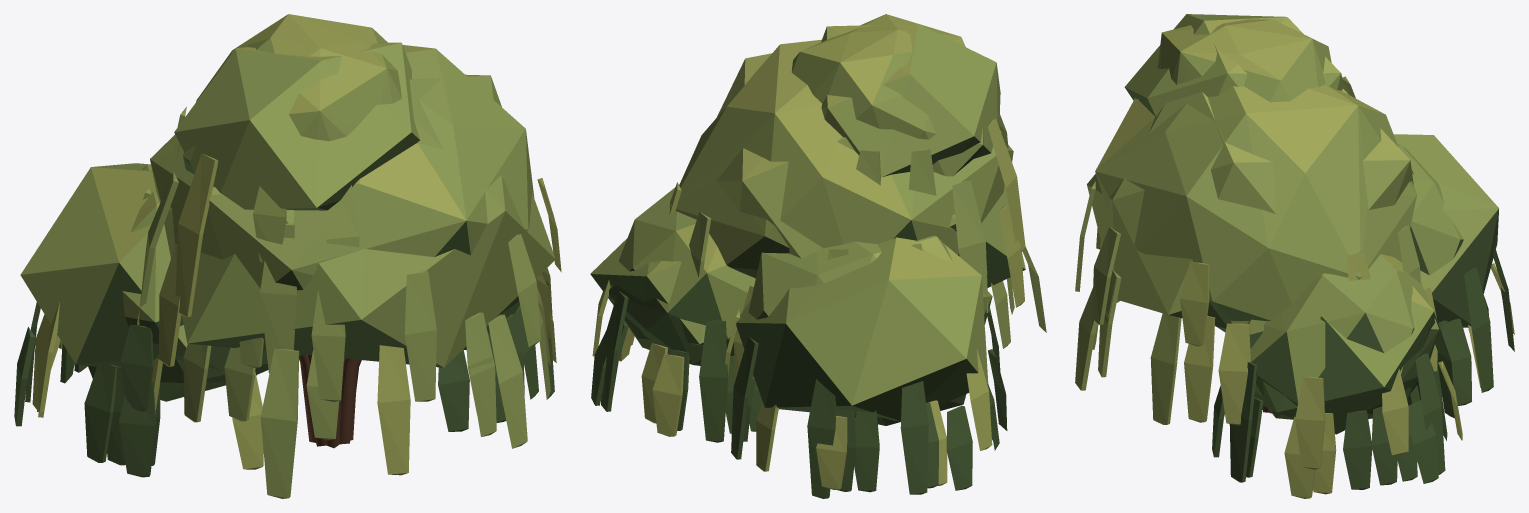
Rendered from foliage_willow_shrub_a.glb.
3 views of the same model, side by side, from view 1: azimuth 30°, elevation 25°; view 2: azimuth 150°, elevation 25°; view 3: azimuth 270°, elevation 25° (orthographic). The views are drawn at different scales.
Visible parts, largest first — view 1: foliage_willow_shrub_a_LOD0_willow, foliage_willow_shrub_a_LOD1_willow; view 2: foliage_willow_shrub_a_LOD0_willow, foliage_willow_shrub_a_LOD1_willow; view 3: foliage_willow_shrub_a_LOD0_willow, foliage_willow_shrub_a_LOD1_willow.
Boxes of the visible parts, x1,y1,x2,y2 form: foliage_willow_shrub_a_LOD0_willow: (25, 14, 561, 475); foliage_willow_shrub_a_LOD1_willow: (14, 42, 556, 498); foliage_willow_shrub_a_LOD0_willow: (592, 14, 1025, 498); foliage_willow_shrub_a_LOD1_willow: (590, 24, 1046, 490); foliage_willow_shrub_a_LOD0_willow: (1075, 19, 1514, 494); foliage_willow_shrub_a_LOD1_willow: (1075, 14, 1514, 498).
Size of the model in its own units: 2.5 by 2.11 by 2.3.
